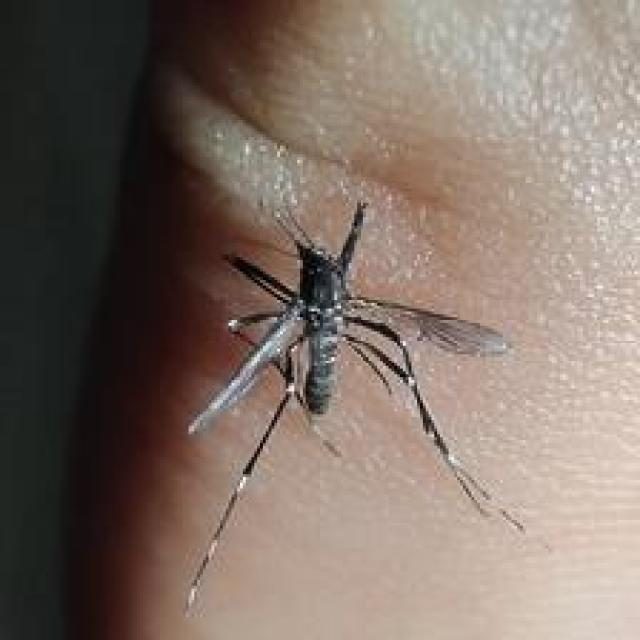Aedes albopictus: (182, 197, 527, 617)
